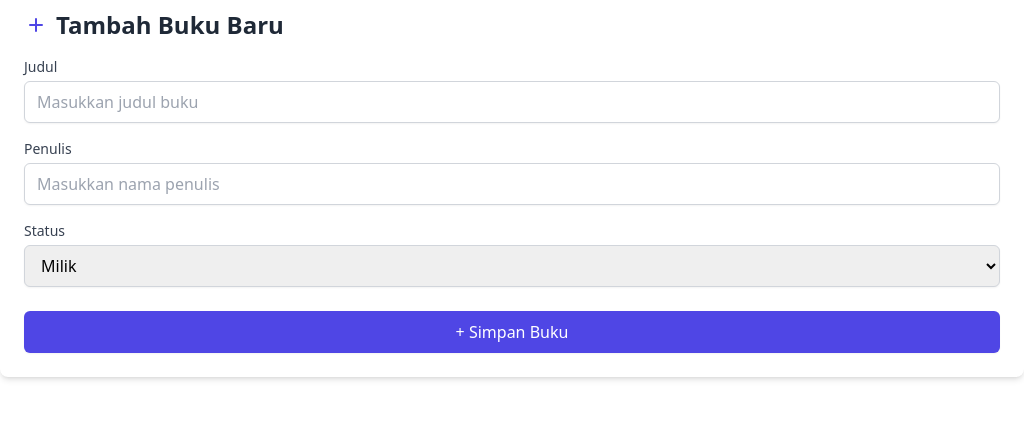
Scenario: BookForm Component › Form Validation › shows error when title is empty
Click the button "+ Simpan Buku" at (512, 332), box [24,311,1000,353]
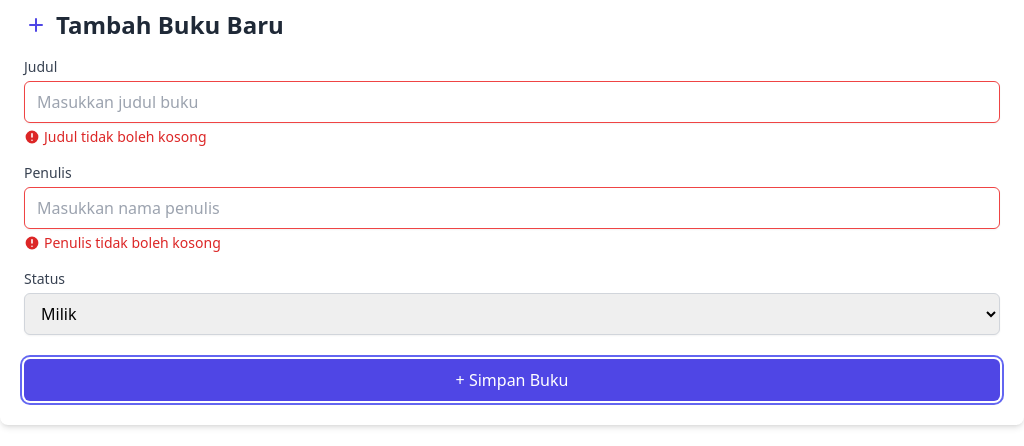
Expected: the text "Judul tidak boleh kosong" is shown, [24,127,206,146]
